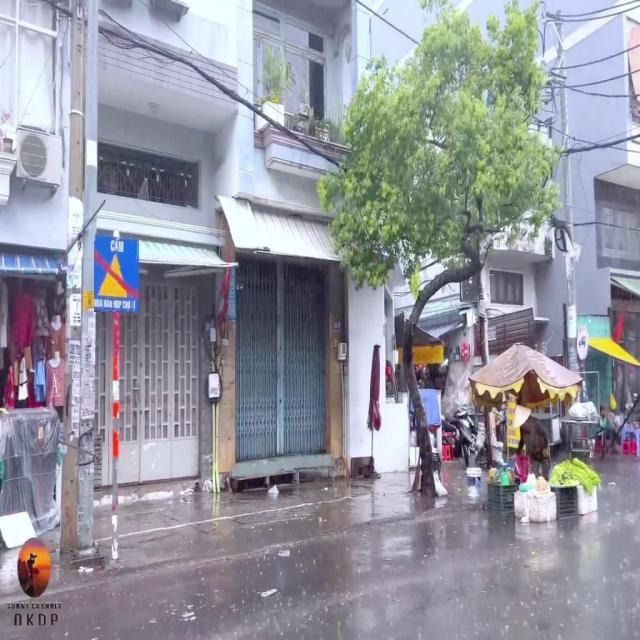106-cam-oto-tai: (578, 326, 590, 362)
